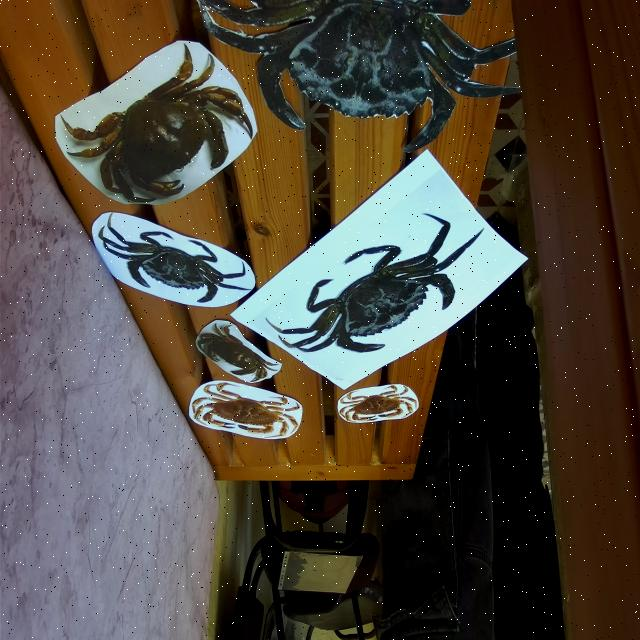European_Green_Crab: (266, 167, 495, 424), (192, 0, 542, 157), (94, 209, 256, 322)
